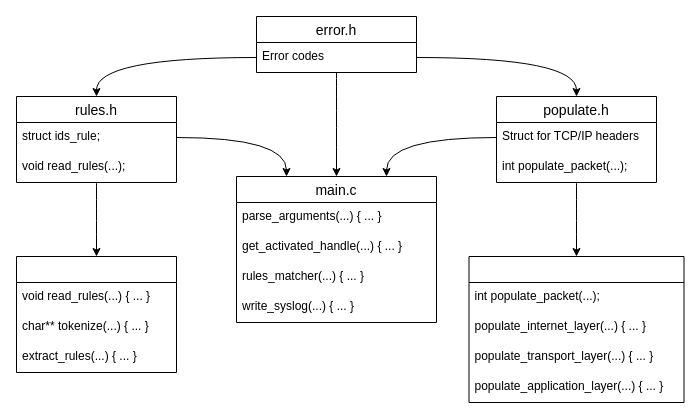
The diagram is 700 pixels wide and 419 high, and some of its shapes have lost their labels. The box of each missing label's shape, as (x1, y1, x2, y2) in pixels:
populate.c: (468, 256, 684, 402)
rules.c: (16, 256, 176, 372)
